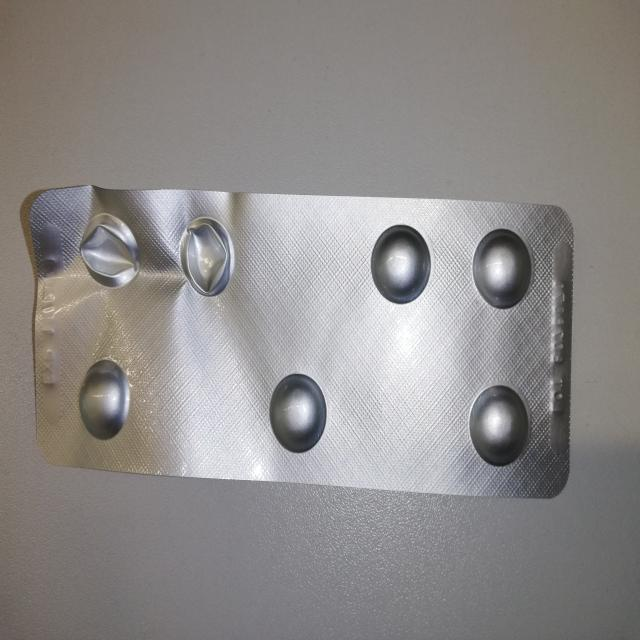Empty: (174, 212, 240, 299), (75, 210, 145, 292)
Pill: (465, 382, 534, 469), (468, 224, 535, 311), (368, 220, 434, 308), (268, 369, 328, 455), (75, 355, 133, 443)
